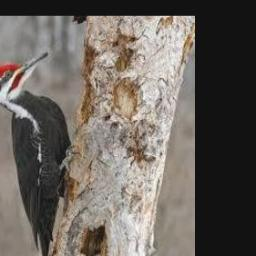Woodpecker: (0, 51, 72, 256)
